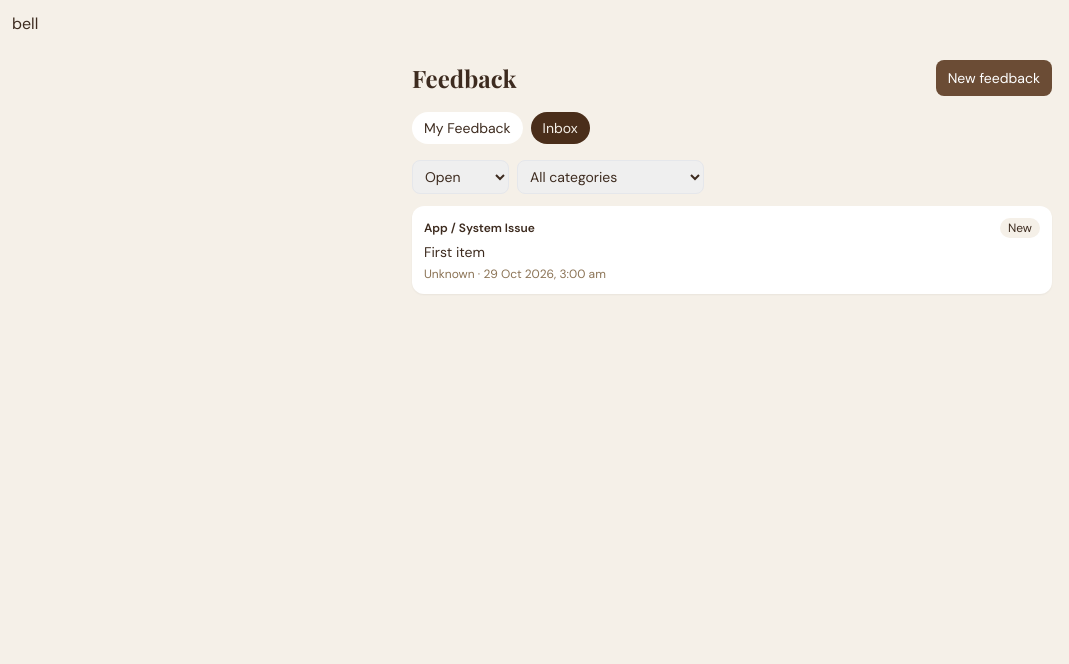
Test case: FeedbackPage › reloads when a Link inside /feedback changes only the query (notification click)
Check: the text "First item" is shown, box 424,243 -> 485,261
What coordinates should you click on to do the following:
click the link "bell"
I would click on:
 (25, 24)
Its box is 12,13 -> 38,34.
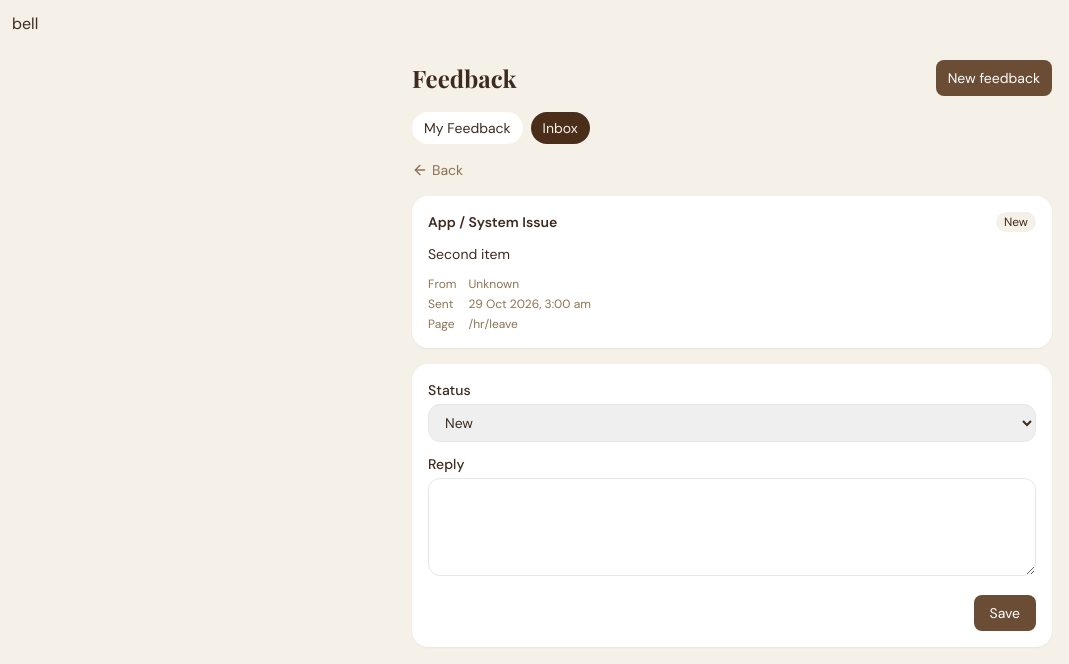
Check: the text "Second item" is shown, box 428,245 -> 510,263
